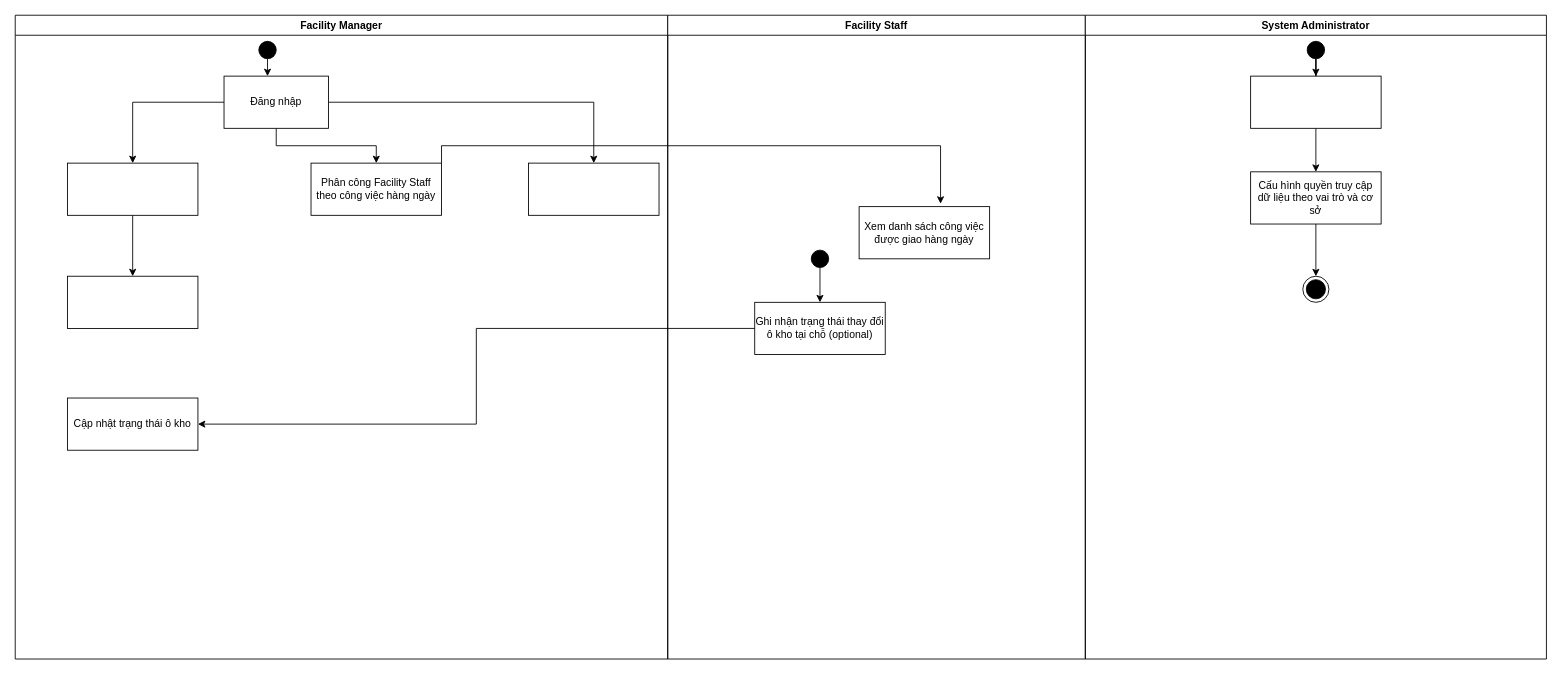
Image size: 1562x674. Some labels were removed from this diagram. Each missing label, with the centre of its shape:
"Gán vai trò cho người dùng trong hệ thống" goes at (x=1315, y=101).
"Quản lý danh mục Unit Type và kích thước ô kho" goes at (x=132, y=188).
"Quản lý Storage Unit - mã, vị trí, trạng thái" goes at (x=132, y=301).
"Xem báo cáo cơ sở - trạng thái ô kho, doanh thu, Usage Rate, hợp đồng" goes at (x=593, y=188).
